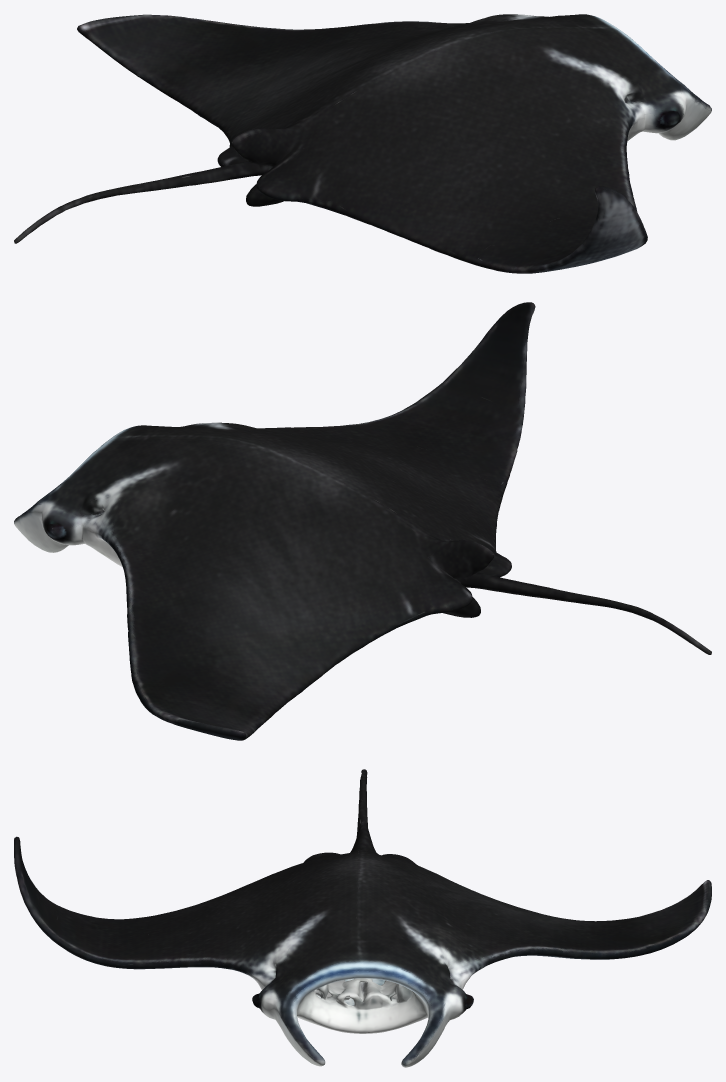
Rendered from 16_manta_ray.glb.
The picture shows the model from 3 angles, top to bottom: view 1: azimuth 30°, elevation 25°; view 2: azimuth 150°, elevation 25°; view 3: azimuth 270°, elevation 25°; orthographic projection. The views are drawn at different scales.
Parts seen in each view (by area): view 1: world; view 2: world; view 3: world.
Boxes of the visible parts, x1,y1,x2,y2 form: world: (14,14,711,273); world: (14,302,711,740); world: (14,769,711,1067).
Bounding box in the file's own units: 0.9544 × 0.2255 × 1.
1 material, 1 textured.
